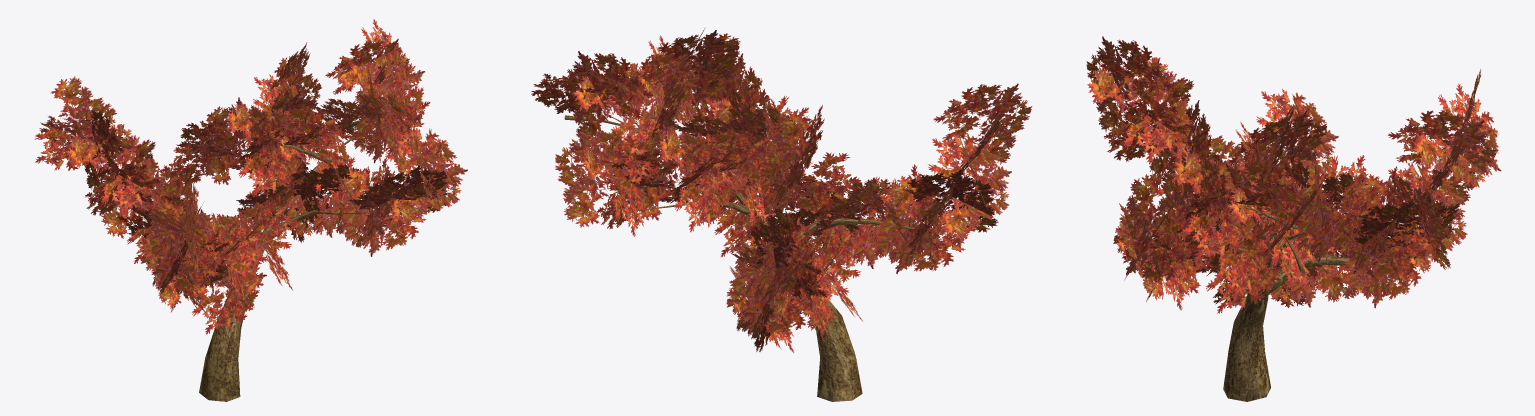
Rendered from Tree15.FBX.
The picture shows the model from 3 angles, left to right: view 1: azimuth 30°, elevation 25°; view 2: azimuth 150°, elevation 25°; view 3: azimuth 270°, elevation 25°; orthographic projection. The views are drawn at different scales.
Visible parts, largest first — view 1: Plane91, Plane103, Plane80, Cylinder10, Plane77, Plane100, Plane118, Plane115, Plane85, Plane117, Plane82, Plane129 (+38 smaller); view 2: Plane113, Plane120, Plane93, Plane90, Plane87, Plane127, Cylinder10, Plane109, Plane76, Plane125, Plane106, Plane80 (+35 smaller); view 3: Plane104, Cylinder10, Plane93, Plane78, Plane92, Plane128, Plane111, Plane124, Plane125, Plane79, Plane122, Plane118 (+33 smaller).
Boxes of the visible parts, x1,y1,x2,y2 form: Plane91: [140, 199, 229, 290]; Plane103: [385, 127, 467, 224]; Plane80: [34, 76, 117, 170]; Cylinder10: [199, 108, 419, 401]; Plane77: [66, 124, 153, 217]; Plane100: [339, 167, 426, 256]; Plane118: [206, 97, 285, 184]; Plane115: [258, 105, 351, 193]; Plane85: [179, 209, 268, 299]; Plane117: [226, 102, 302, 197]; Plane82: [217, 202, 298, 294]; Plane129: [337, 50, 424, 128]; Plane113: [555, 128, 659, 227]; Plane120: [759, 111, 861, 212]; Plane93: [933, 83, 1032, 168]; Plane90: [928, 134, 1011, 239]; Plane87: [876, 176, 976, 274]; Plane127: [562, 51, 653, 147]; Cylinder10: [564, 115, 862, 401]; Plane109: [630, 123, 728, 220]; Plane76: [726, 236, 828, 334]; Plane125: [647, 30, 739, 98]; Plane106: [679, 129, 772, 226]; Plane80: [750, 207, 827, 301]; Plane104: [1113, 174, 1198, 282]; Cylinder10: [1223, 233, 1304, 401]; Plane93: [1086, 36, 1173, 137]; Plane78: [1388, 110, 1497, 203]; Plane92: [1087, 57, 1189, 164]; Plane128: [1296, 172, 1378, 262]; Plane111: [1334, 174, 1444, 279]; Plane124: [1172, 152, 1260, 261]; Plane125: [1153, 145, 1232, 243]; Plane79: [1413, 83, 1501, 187]; Plane122: [1217, 162, 1308, 262]; Plane118: [1225, 110, 1326, 178].
Bounding box in the file's own units: 438 × 339 × 402.
2 materials, 2 textured.
